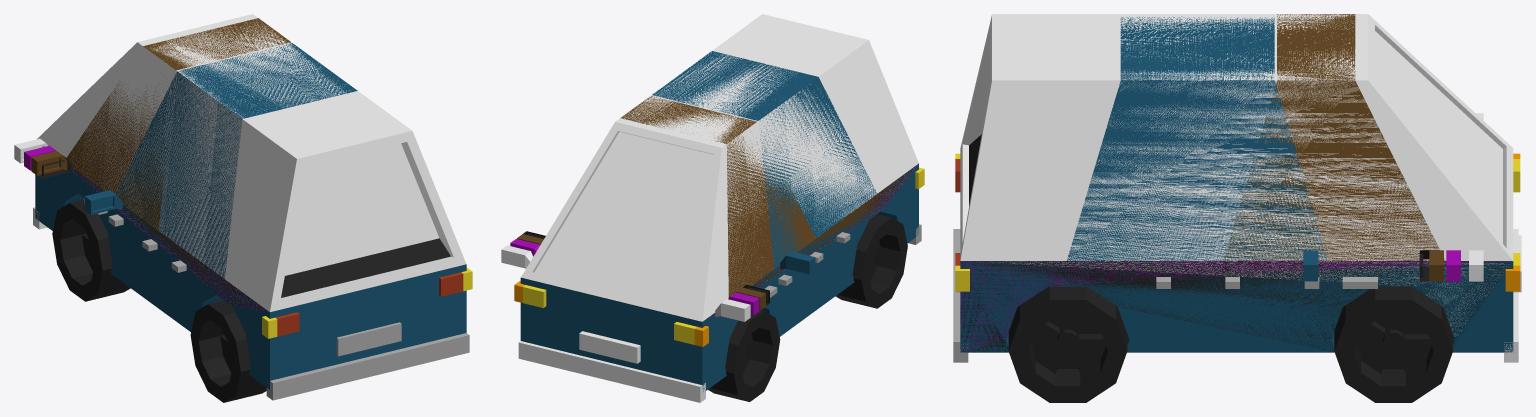
The model's file is BILER.fbx.
The picture shows the model from 3 angles, left to right: view 1: azimuth 30°, elevation 25°; view 2: azimuth 150°, elevation 25°; view 3: azimuth 270°, elevation 25°; orthographic projection. The views are drawn at different scales.
Visible parts, largest first — view 1: bil 5, bil 1, bil 4, bil 3, bil 2; view 2: bil 5, bil 1, bil 4, bil 3, bil 2; view 3: bil 5, bil 1, bil 4, bil 3, bil 2.
Boxes of the visible parts, left/top/right/bottom form: bil 5: left=14, top=14, right=466, bottom=311; bil 1: left=33, top=43, right=472, bottom=402; bil 4: left=31, top=18, right=290, bottom=309; bil 3: left=38, top=156, right=450, bottom=311; bil 2: left=24, top=145, right=268, bottom=311; bil 5: left=501, top=14, right=918, bottom=321; bil 1: left=514, top=51, right=924, bottom=402; bil 4: left=517, top=96, right=914, bottom=317; bil 3: left=523, top=167, right=913, bottom=318; bil 2: left=510, top=166, right=916, bottom=315; bil 5: left=960, top=14, right=1513, bottom=336; bil 1: left=953, top=16, right=1521, bottom=402; bil 4: left=963, top=14, right=1497, bottom=288; bil 3: left=960, top=134, right=1511, bottom=352; bil 2: left=960, top=250, right=1508, bottom=351.
Size of the model in its own units: 1947 by 1764 by 3085.
